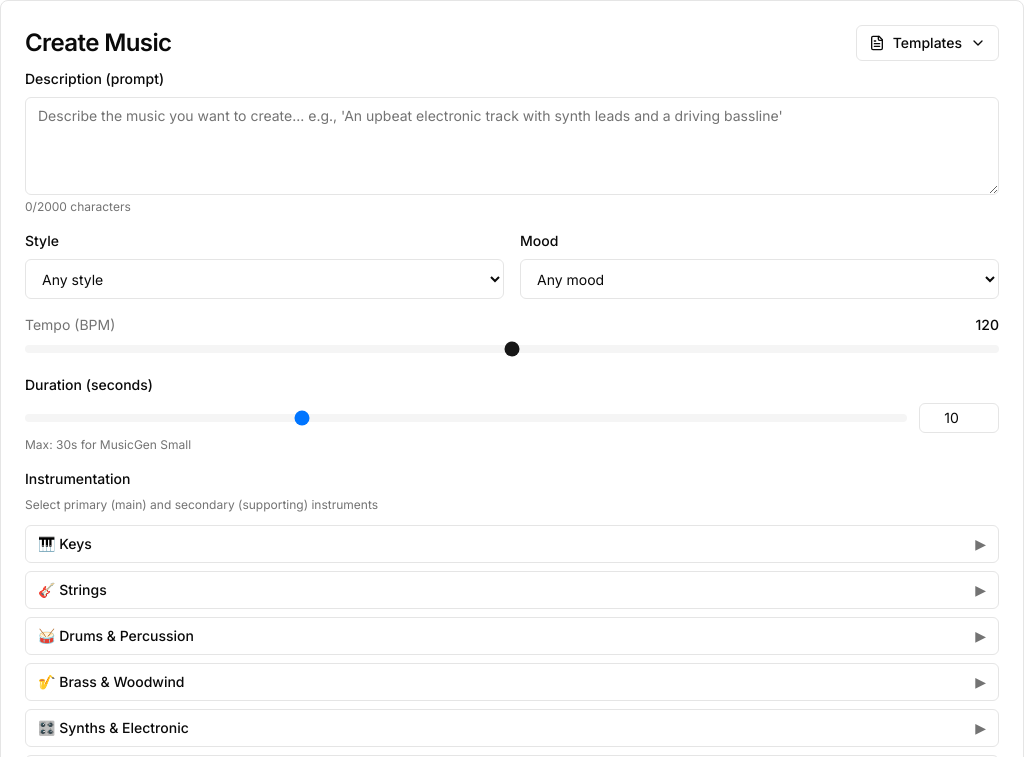
it: PromptEditor › duration limits › shows warning when approaching max duration
This screenshot has width=1024, height=757.
Replace the text in the number field with "25" at (959, 418), box [919,403,999,433]
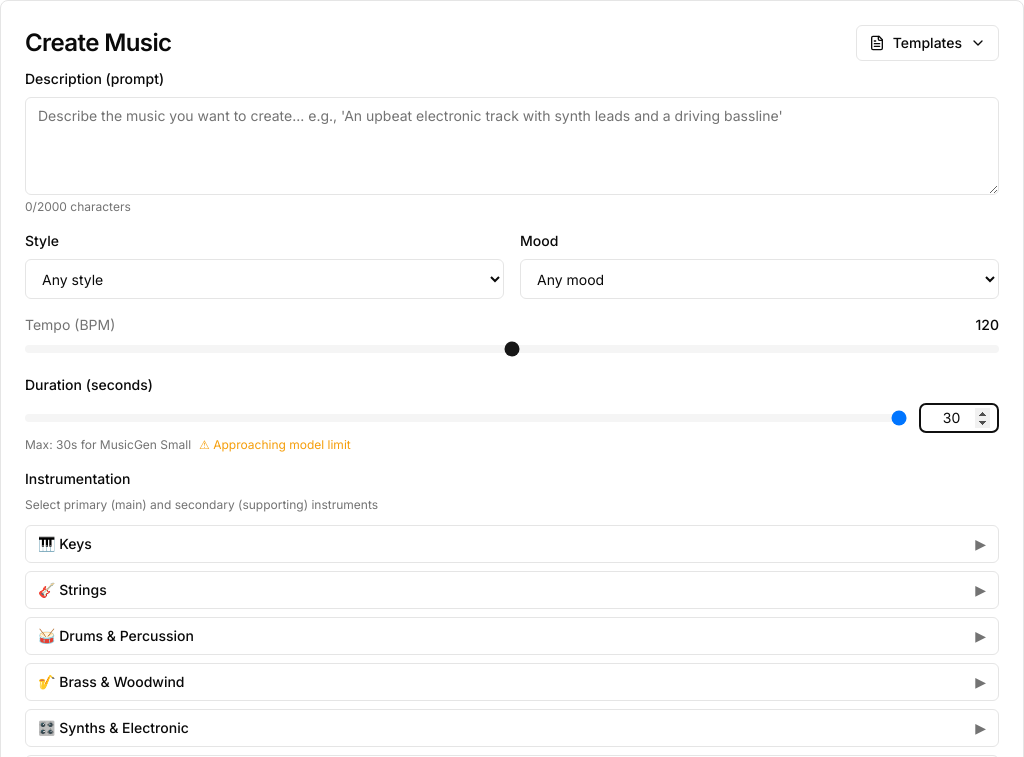
Result: the text "⚠ Approaching model limit" is shown at [199,437,351,452]
